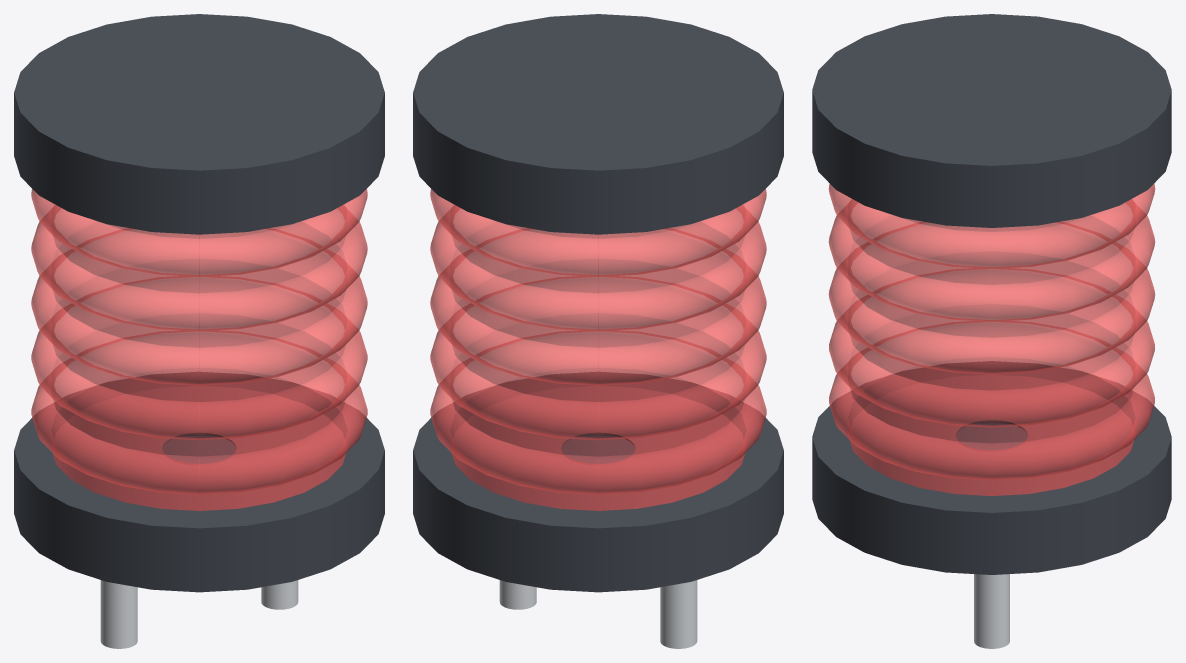
The model's file is inductor_radial.glb.
The picture shows the model from 3 angles, left to right: view 1: azimuth 30°, elevation 25°; view 2: azimuth 150°, elevation 25°; view 3: azimuth 270°, elevation 25°; orthographic projection. The views are drawn at different scales.
Parts seen in each view (by area): view 1: Encapsulado_2, Lente_LED_1, Pines_0; view 2: Encapsulado_2, Lente_LED_1, Pines_0; view 3: Encapsulado_2, Lente_LED_1, Pines_0.
Boxes of the visible parts, left/top/right/bottom form: Encapsulado_2: left=14, top=14, right=384, bottom=592; Lente_LED_1: left=31, top=189, right=367, bottom=510; Pines_0: left=100, top=580, right=298, bottom=648; Encapsulado_2: left=413, top=14, right=783, bottom=592; Lente_LED_1: left=430, top=189, right=766, bottom=510; Pines_0: left=499, top=580, right=697, bottom=648; Encapsulado_2: left=812, top=14, right=1171, bottom=574; Lente_LED_1: left=828, top=184, right=1155, bottom=495; Pines_0: left=974, top=574, right=1009, bottom=648.
Size of the model in its own units: 10 by 15.75 by 10.
